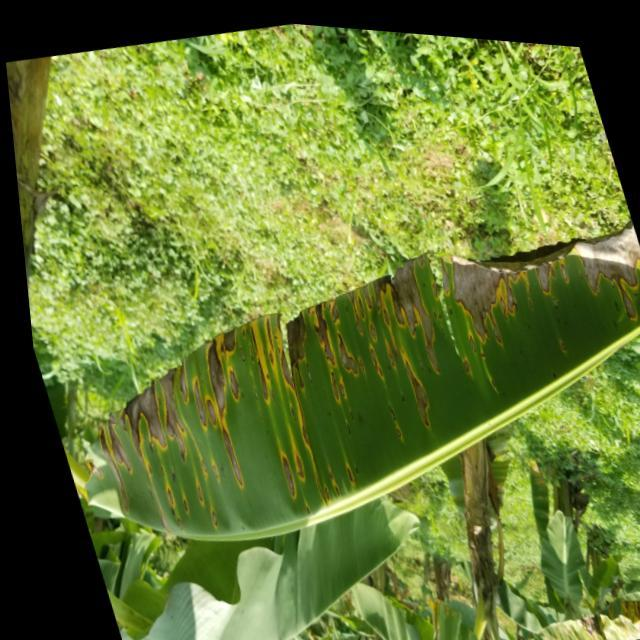Early_rust: (86, 215, 633, 509)
